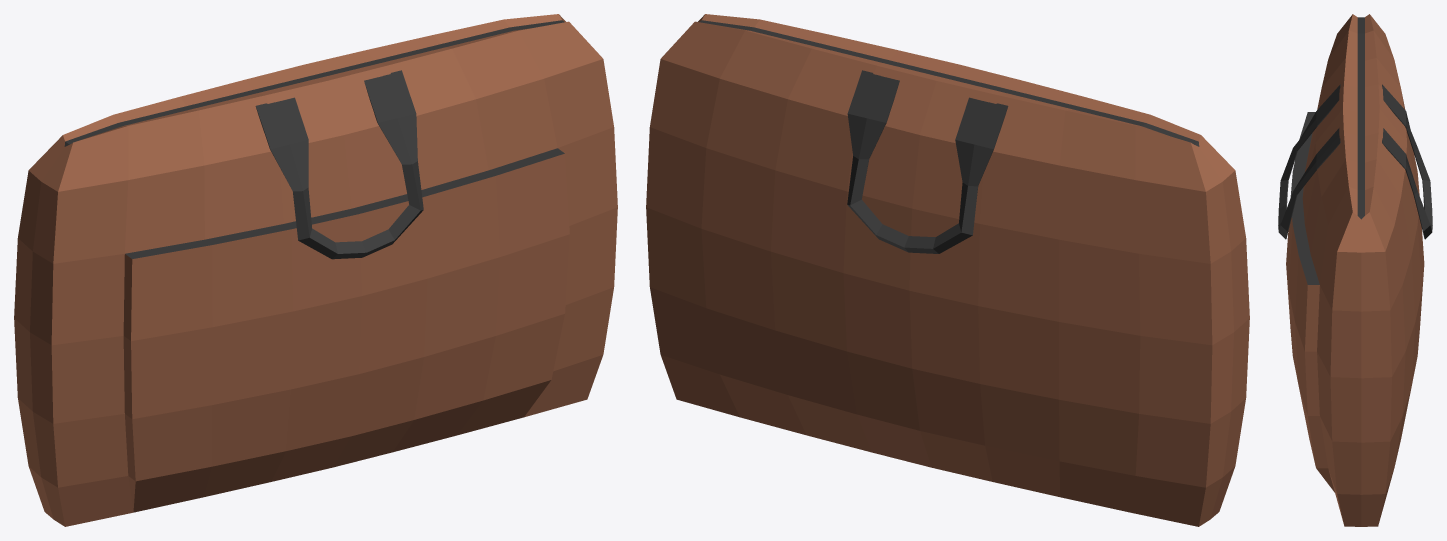
Rendered from laptop_bag.fbx.
The picture shows the model from 3 angles, left to right: view 1: azimuth 30°, elevation 25°; view 2: azimuth 150°, elevation 25°; view 3: azimuth 270°, elevation 25°; orthographic projection. The views are drawn at different scales.
Visible parts, largest first — view 1: Laptop Bag; view 2: Laptop Bag; view 3: Laptop Bag.
Boxes of the visible parts, left/top/right/bottom form: Laptop Bag: left=14, top=14, right=617, bottom=526; Laptop Bag: left=646, top=14, right=1249, bottom=526; Laptop Bag: left=1278, top=14, right=1432, bottom=526.
Size of the model in its own units: 236 by 152 by 67.45.
